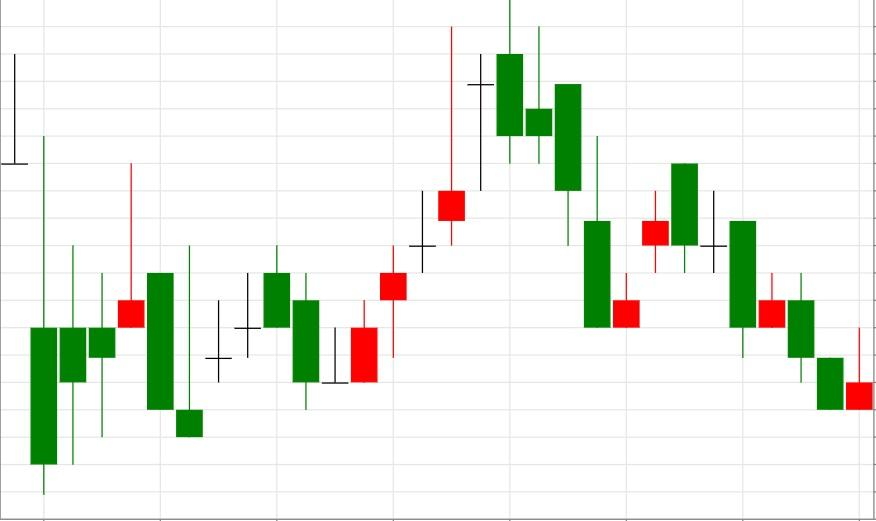bearish_engulfing_fall: (583, 135, 699, 328)
inverse_hammer_rise: (670, 162, 873, 410), (117, 163, 204, 439)
morning_star_rise: (263, 244, 379, 410)
shooting_star_fall: (30, 136, 146, 496)
